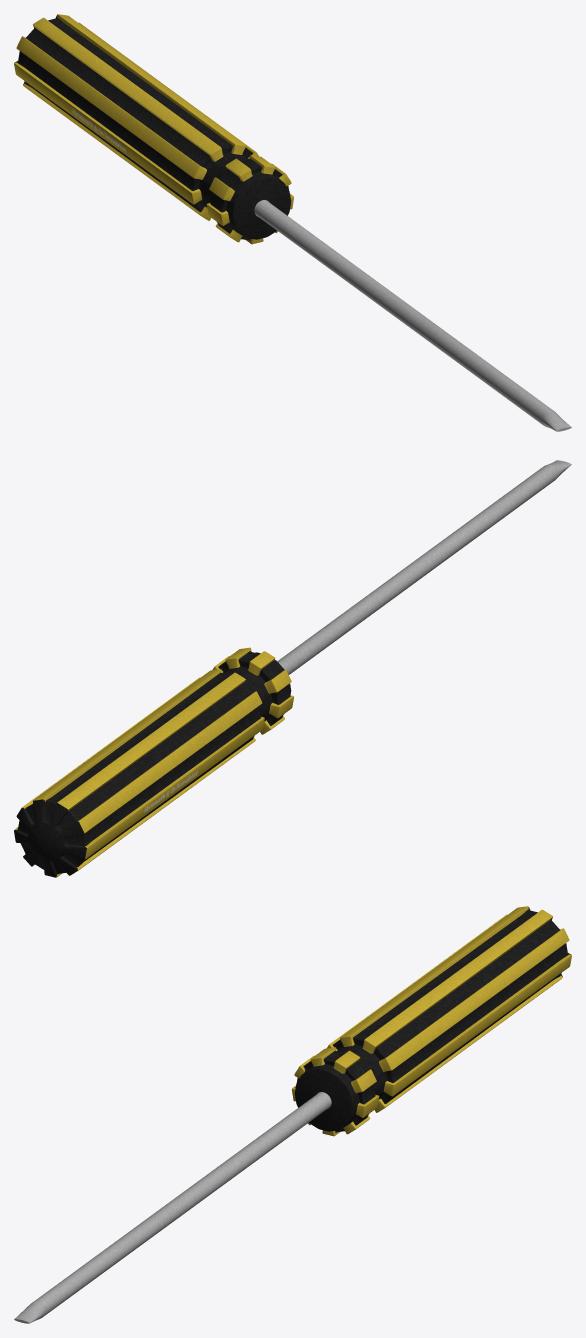
File: screw driver.fbx
3 renders of one model, top to bottom at view 1: azimuth 30°, elevation 25°; view 2: azimuth 150°, elevation 25°; view 3: azimuth 330°, elevation 25°, orthographic.
Visible parts, largest first — view 1: screw driver; view 2: screw driver; view 3: screw driver.
Boxes of the visible parts, box(x1,y1,x2,y2) form: screw driver: box(14, 14, 571, 431); screw driver: box(14, 460, 571, 877); screw driver: box(14, 906, 571, 1323).
Size of the model in its own units: 3.91 by 3.85 by 47.99.
